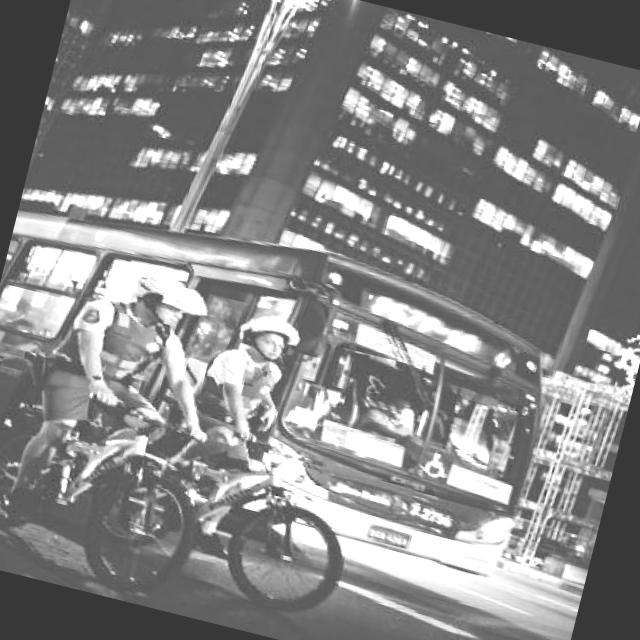Person: (0, 247, 244, 555), (170, 299, 302, 479), (355, 386, 421, 444)
